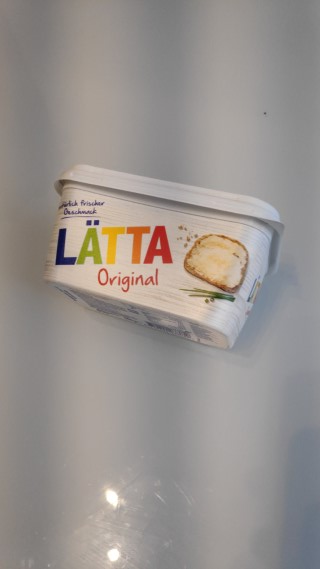laetta: (41, 163, 285, 349)
